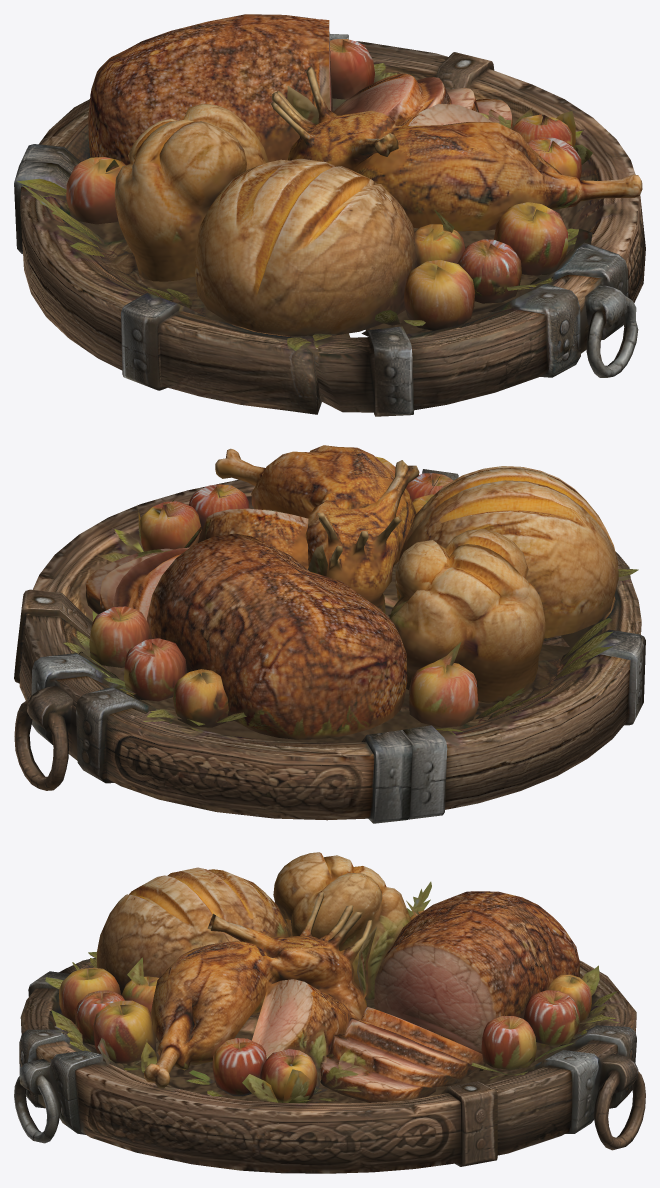
The model's file is SM_Env_HeorotFeastPlatter.fbx.
3 renders of one model, top to bottom at view 1: azimuth 30°, elevation 25°; view 2: azimuth 150°, elevation 25°; view 3: azimuth 270°, elevation 25°, orthographic. The views are drawn at different scales.
Parts seen in each view (by area): view 1: SM_Env_HeorotFeastPlatter; view 2: SM_Env_HeorotFeastPlatter; view 3: SM_Env_HeorotFeastPlatter.
Boxes of the visible parts, x1,y1,x2,y2 form: SM_Env_HeorotFeastPlatter: (14, 14, 645, 416); SM_Env_HeorotFeastPlatter: (14, 445, 645, 823); SM_Env_HeorotFeastPlatter: (14, 852, 645, 1173).
Bounding box in the file's own units: 16.42 × 19.2 × 6.
1 material, 1 textured.
